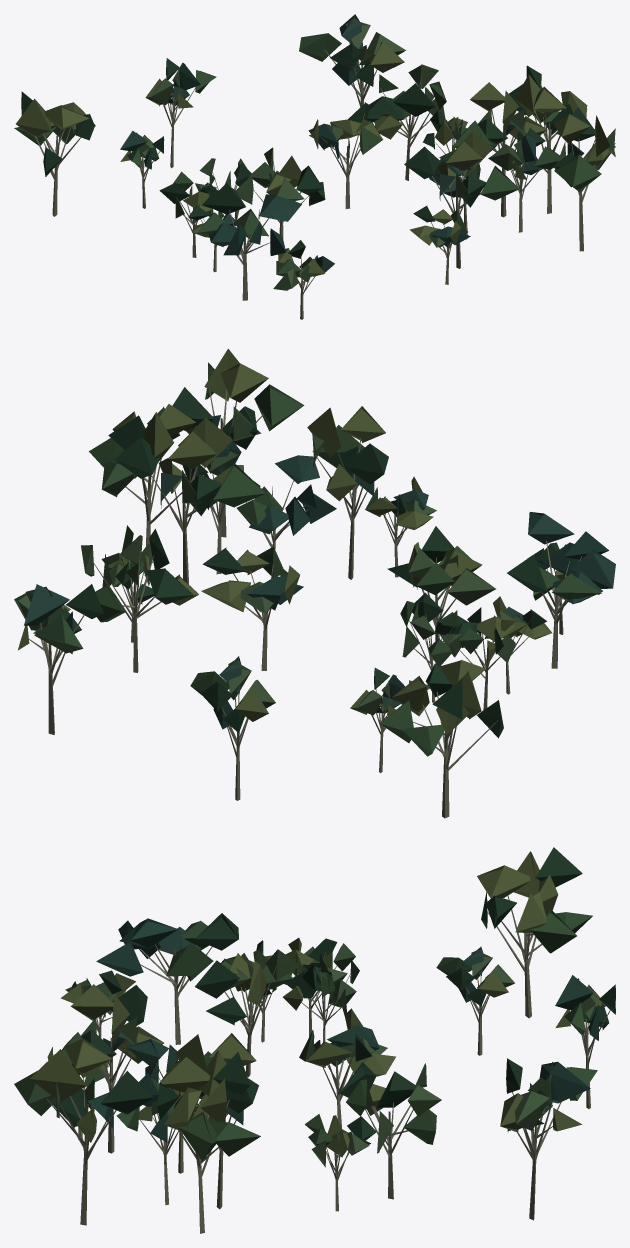
Rendered from forest_25_26.dae.
3 renders of one model, top to bottom at view 1: azimuth 30°, elevation 25°; view 2: azimuth 150°, elevation 25°; view 3: azimuth 270°, elevation 25°, orthographic. The views are drawn at different scales.
Visible parts, largest first — view 1: Node; view 2: Node; view 3: Node.
Part boxes in pixels (left/top/right/bottom): Node: left=14, top=14, right=615, bottom=319; Node: left=14, top=348, right=615, bottom=818; Node: left=14, top=847, right=615, bottom=1233.
Bounding box in the file's own units: 11 × 10.26 × 3.74.
